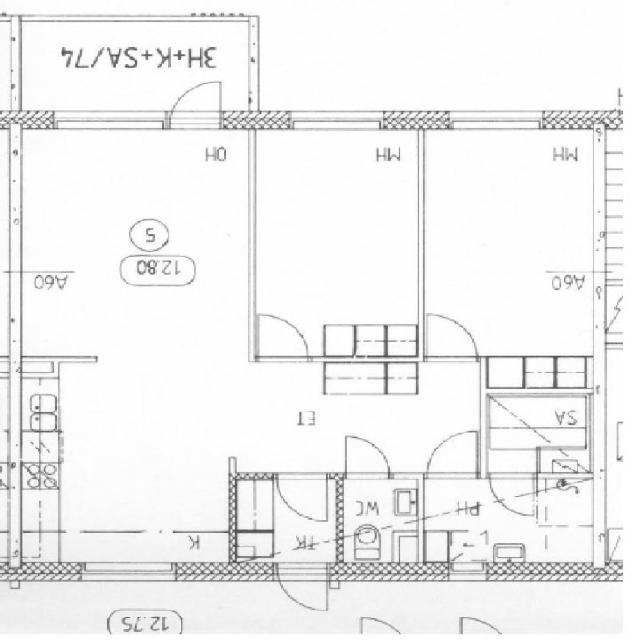door: (335, 472, 421, 573), (248, 307, 318, 368), (417, 307, 486, 368), (420, 423, 483, 481), (166, 76, 228, 132), (272, 471, 336, 525), (335, 431, 393, 482), (485, 470, 541, 520), (454, 611, 508, 640), (353, 610, 403, 640)
window: (442, 108, 548, 138), (283, 110, 386, 138), (50, 112, 166, 136)
zone: (422, 117, 615, 375), (253, 122, 421, 358), (482, 392, 592, 466), (272, 469, 334, 524), (274, 562, 334, 618), (533, 475, 595, 527)
